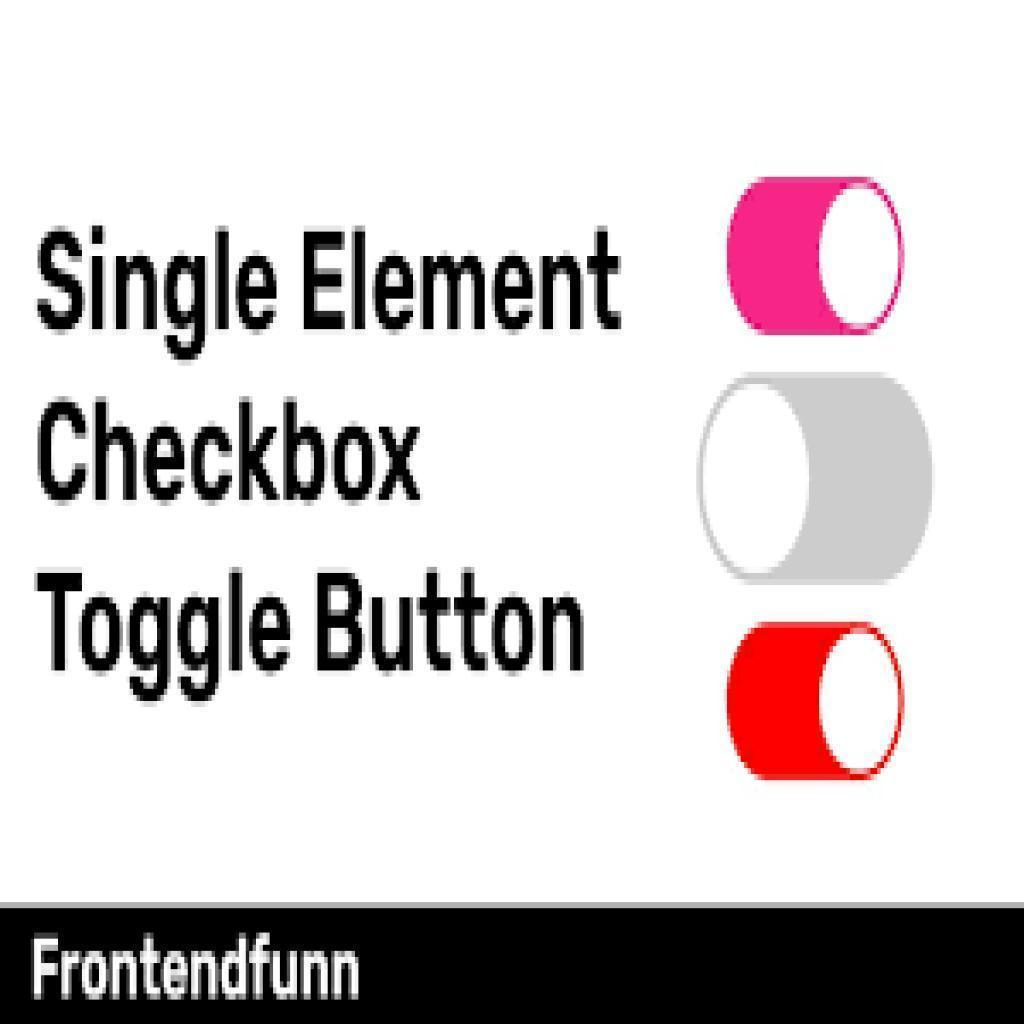switch: (702, 370, 933, 586), (729, 175, 904, 333), (731, 624, 905, 779)
